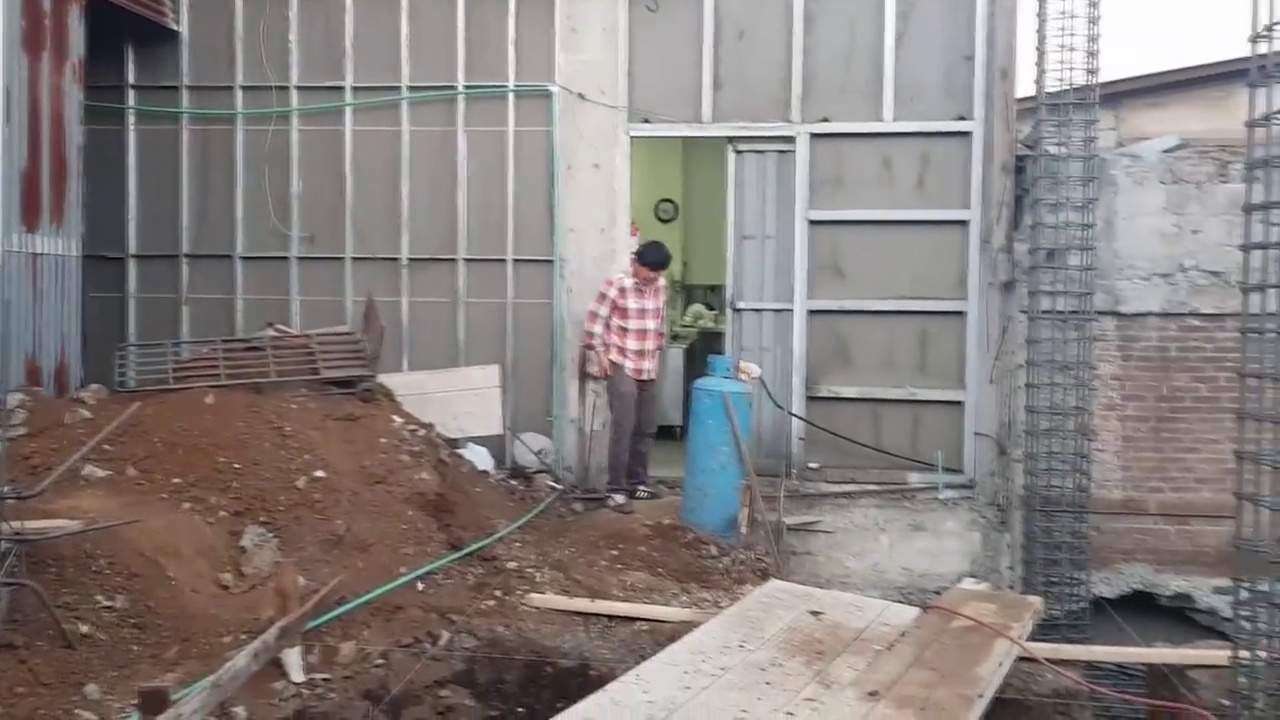helmet-off: (629, 237, 669, 284)
person: (580, 235, 682, 507)
